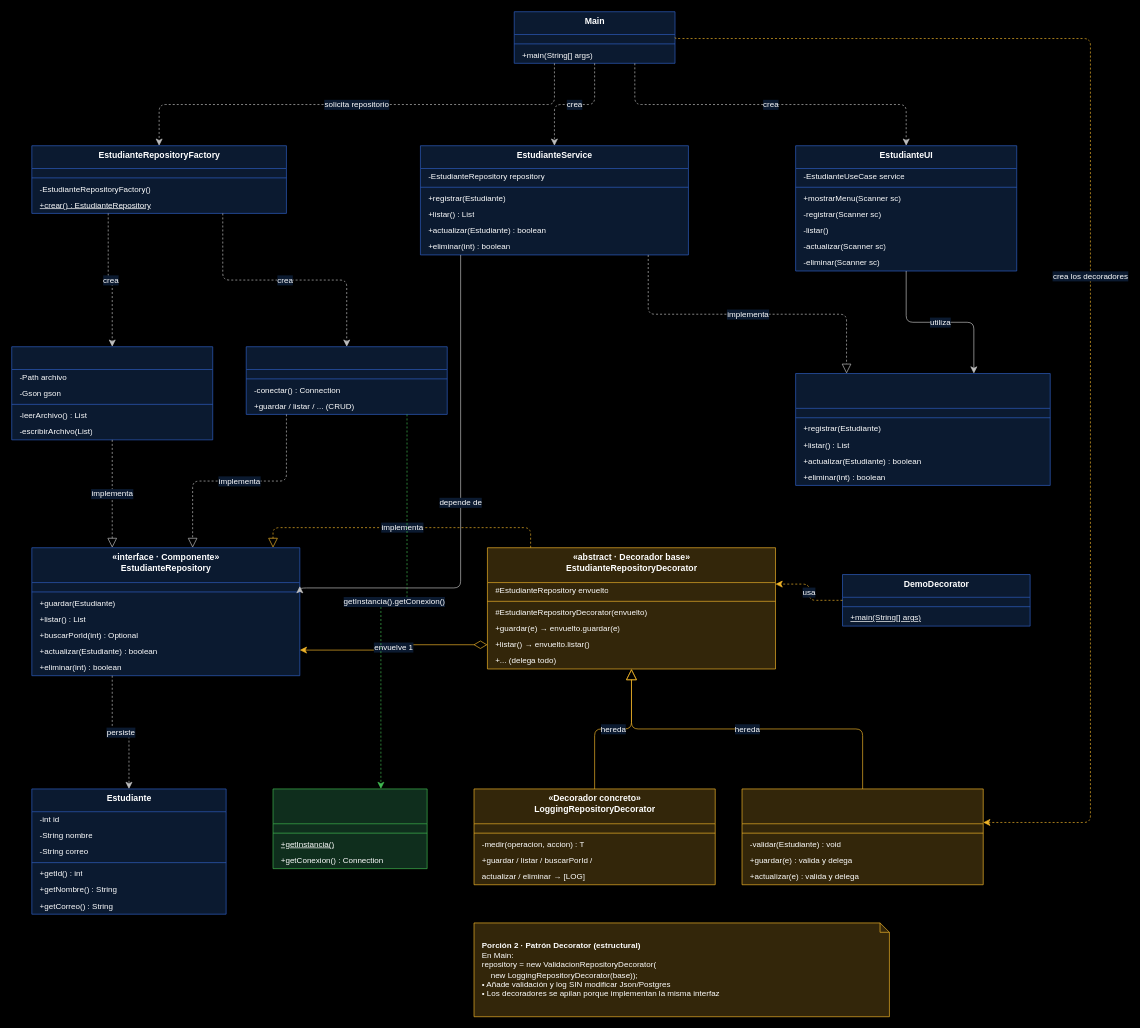
Image size: 1140x1028. Some labels were removed from this diagram. The box of each missing label's shape, as (x1, y1, x2, y2) in pixels:
EstudianteRepositoryJson: (11, 346, 213, 440)
EstudianteRepositoryPostgres: (246, 346, 447, 414)
«Decorador concreto» ValidacionRepositoryDecorator: (741, 788, 983, 885)
«interface» EstudianteUseCase: (795, 373, 1050, 485)
«Singleton · Porción 1» ConexionBD: (272, 788, 427, 869)
